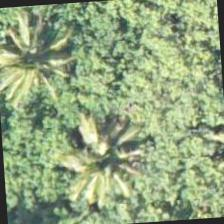Kelapa_Sawit: (56, 100, 152, 196), (0, 25, 88, 122)
